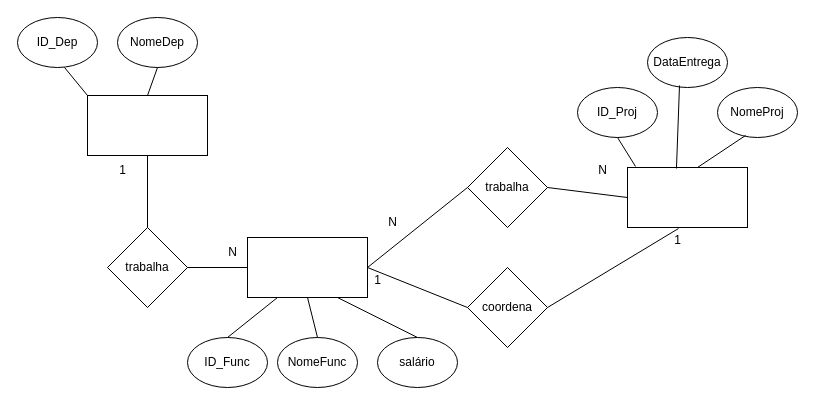
This 815x405 diagram has some shape labels left out. Here are the shapes that lost their labels. From the top down, the centre of each, then its label:
At (x=147, y=125): "Departamento".
At (x=687, y=197): "Projeto".
At (x=307, y=267): "Funcionário".
